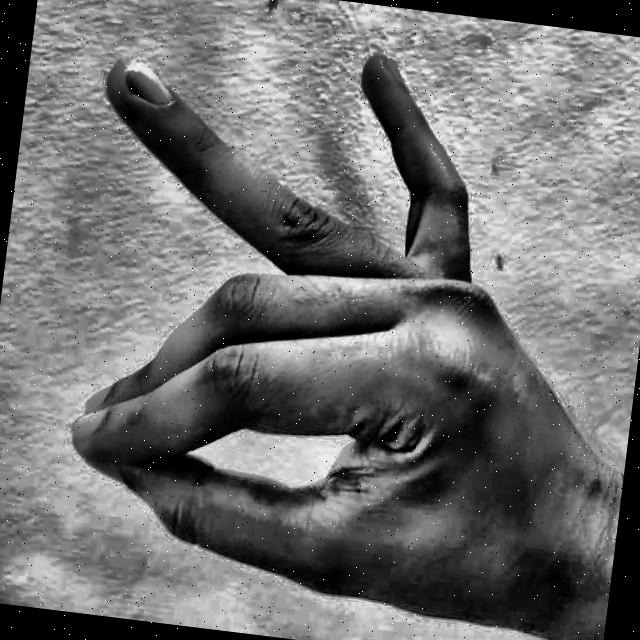Na: (16, 0, 605, 640)
